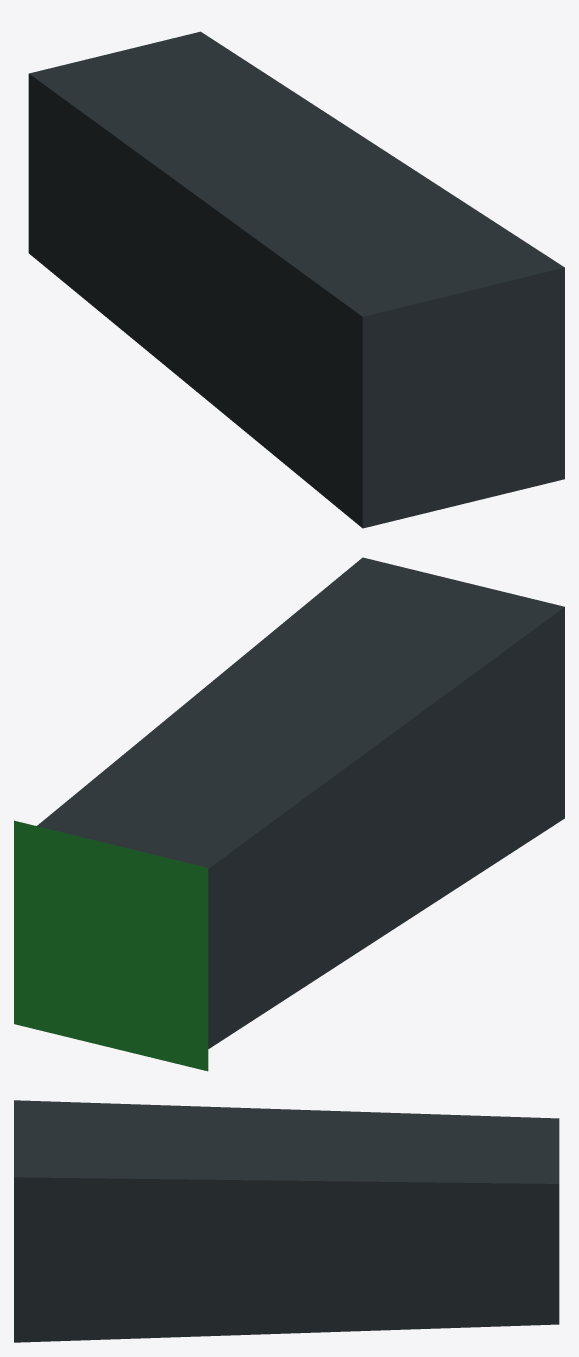
The picture shows the model from 3 angles, top to bottom: view 1: azimuth 30°, elevation 25°; view 2: azimuth 150°, elevation 25°; view 3: azimuth 270°, elevation 25°; orthographic projection. The views are drawn at different scales.
Parts seen in each view (by area): view 1: mount; view 2: mount; view 3: mount.
Part boxes in pixels (<box>): mount: <box>28,31,564,528</box>; mount: <box>14,557,564,1071</box>; mount: <box>14,1100,559,1342</box>.
Bounding box in the file's own units: 0.9899 × 0.9899 × 2.99.
